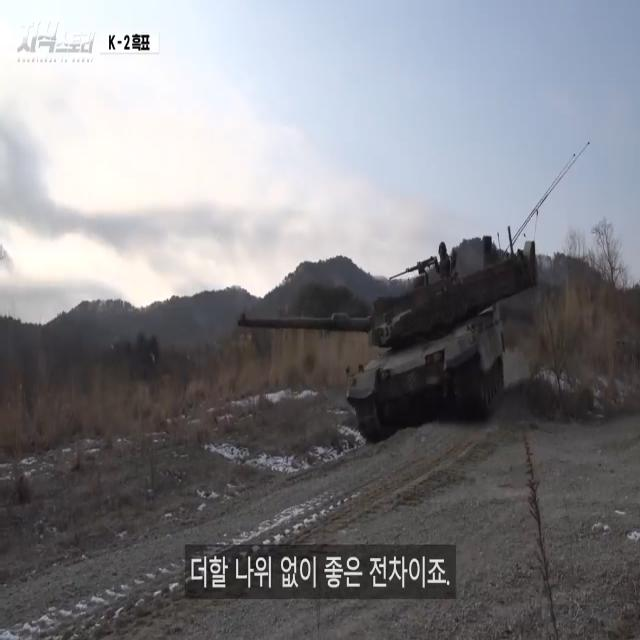korea tank: (235, 225, 536, 445)
